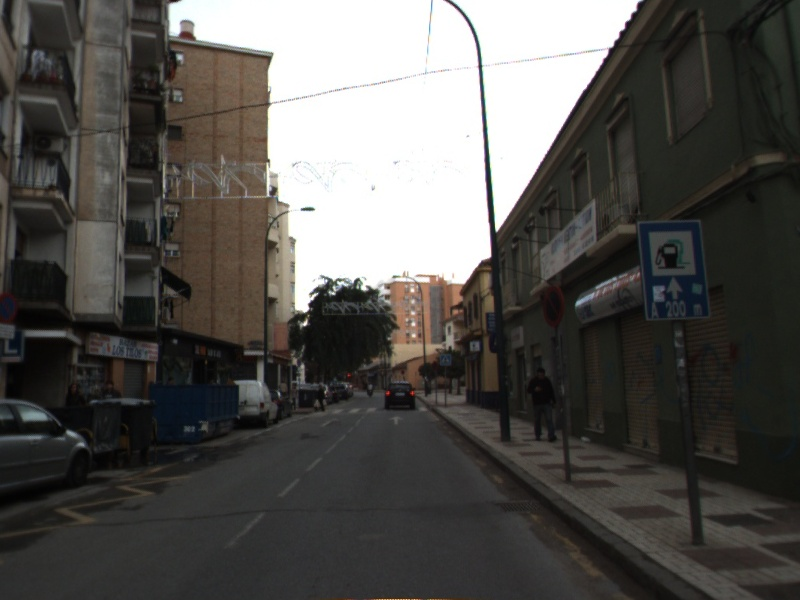STRAIGHT: (317, 416, 343, 430), (386, 414, 406, 427)
